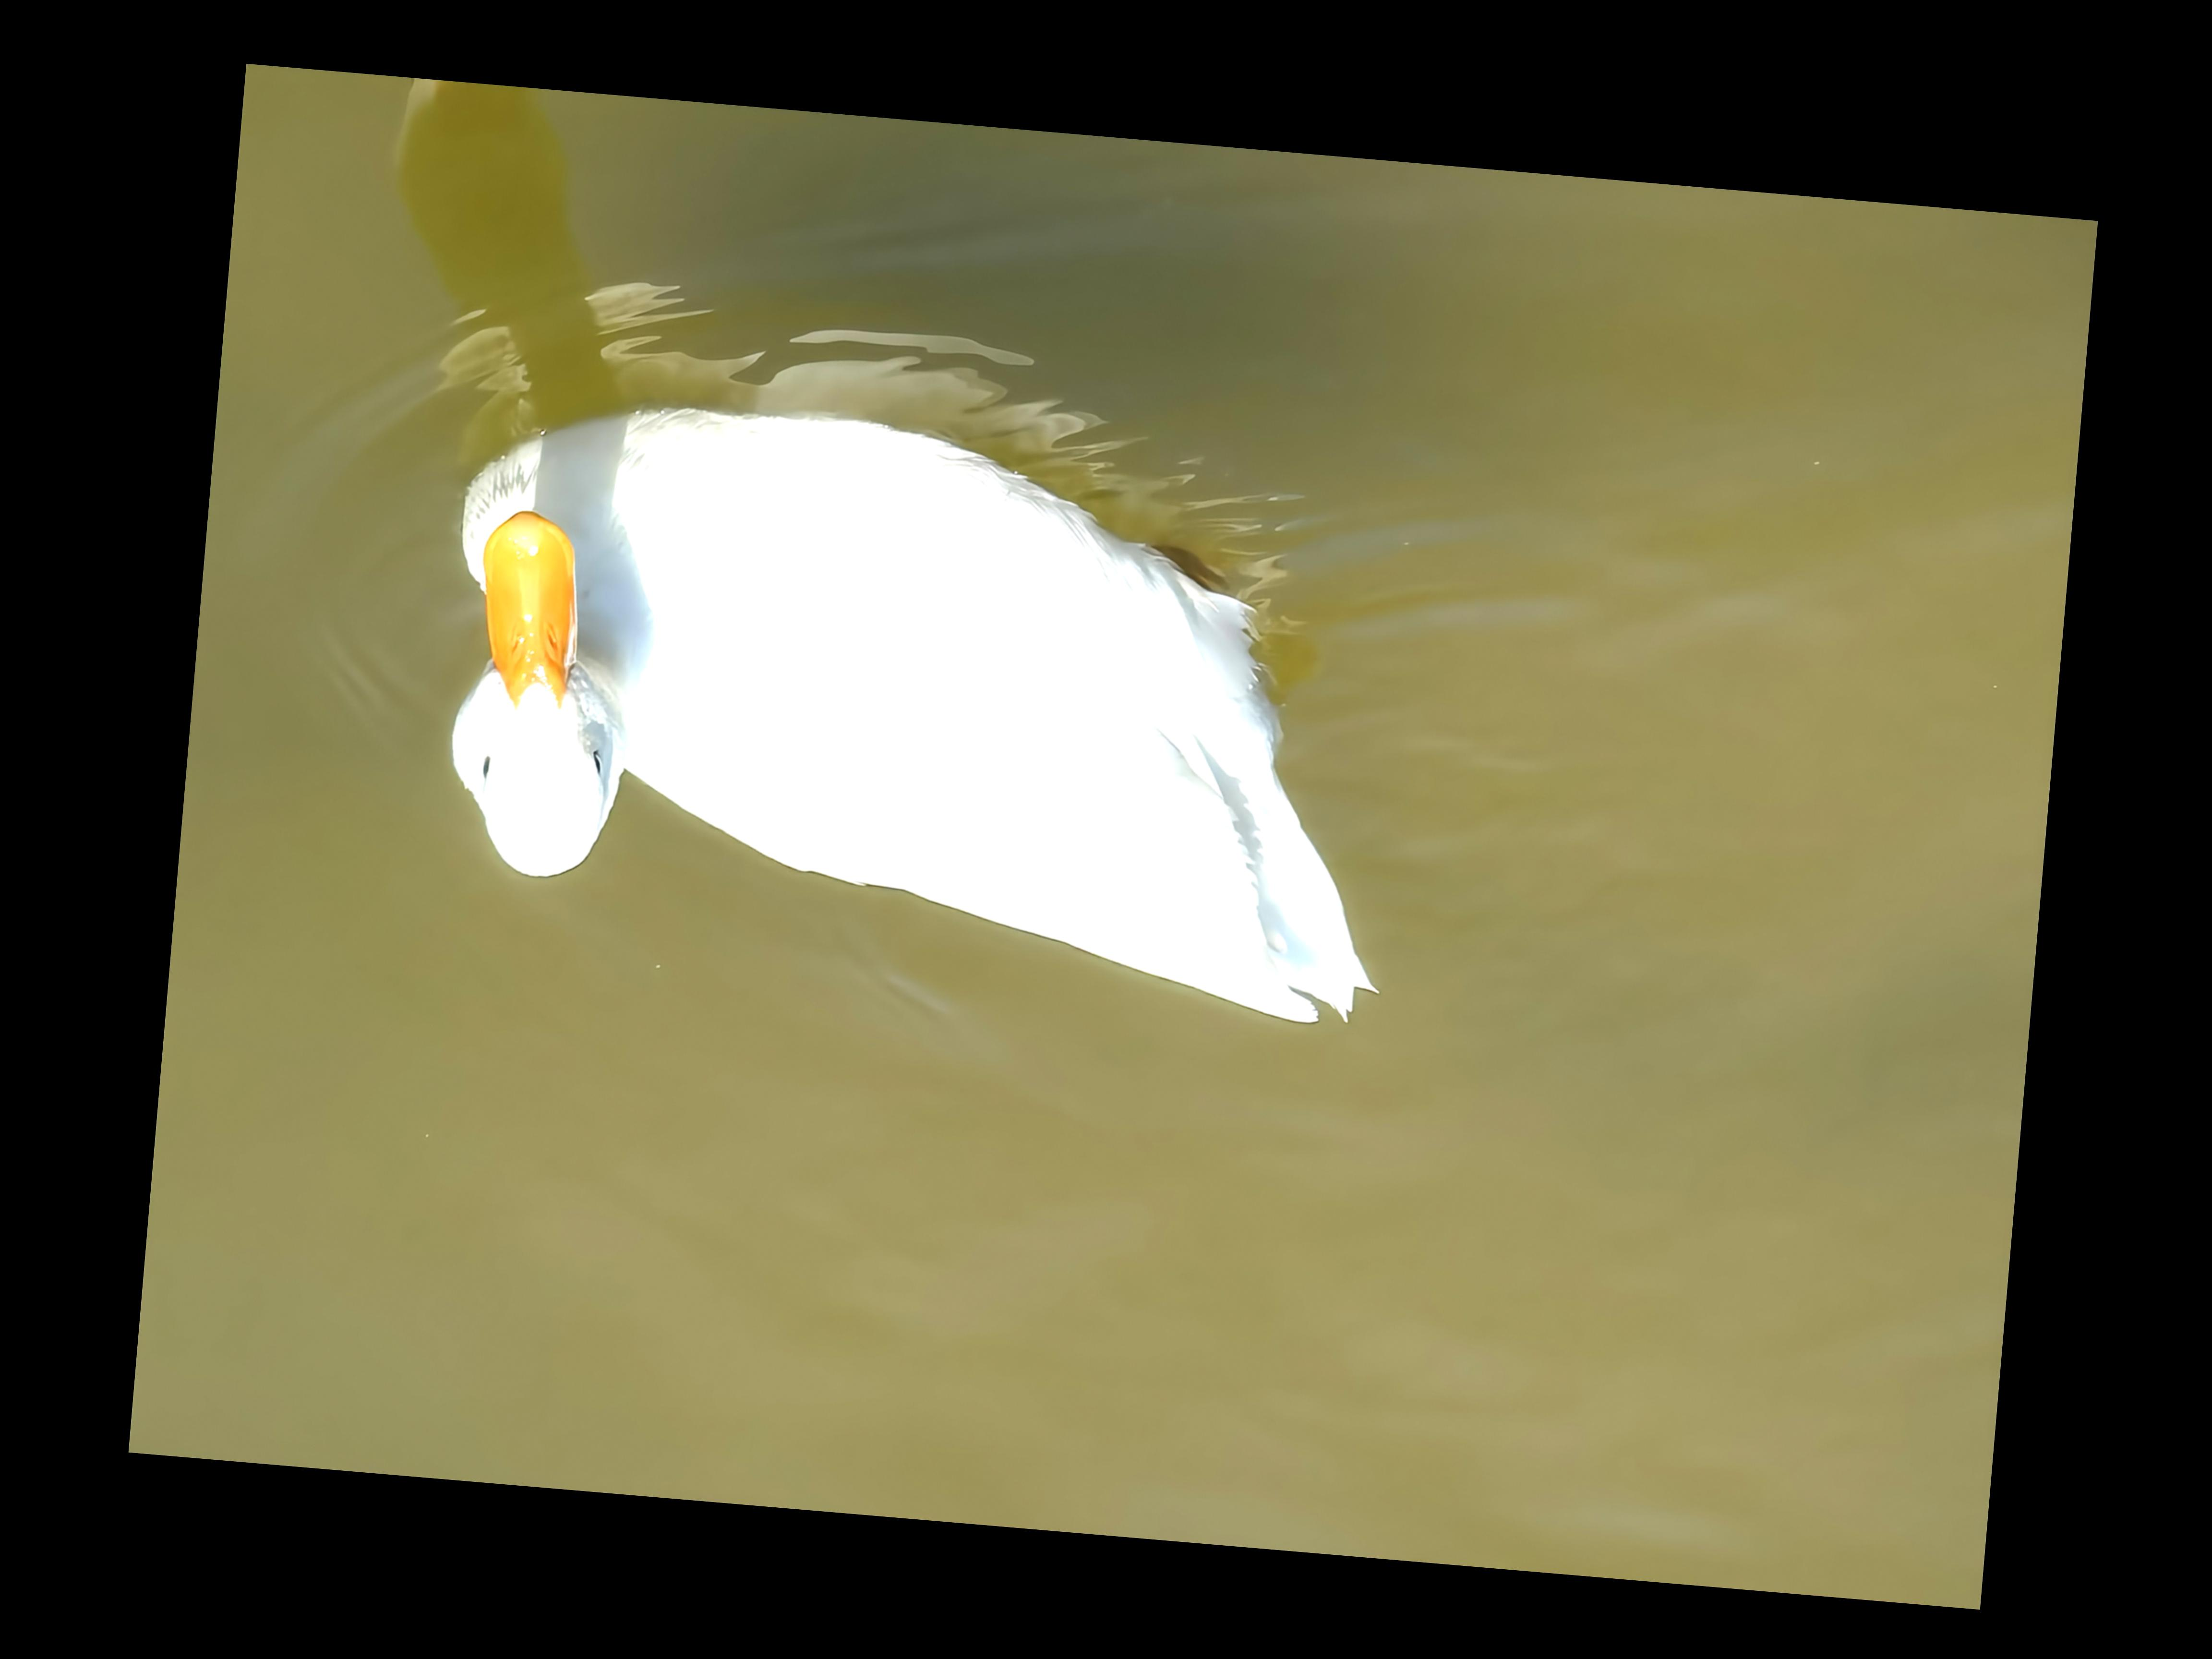duck: (359, 321, 1437, 1039)
